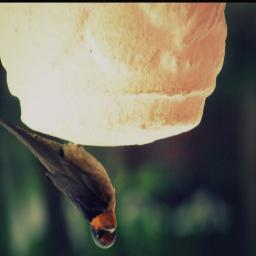Swallow: (0, 114, 119, 253)
